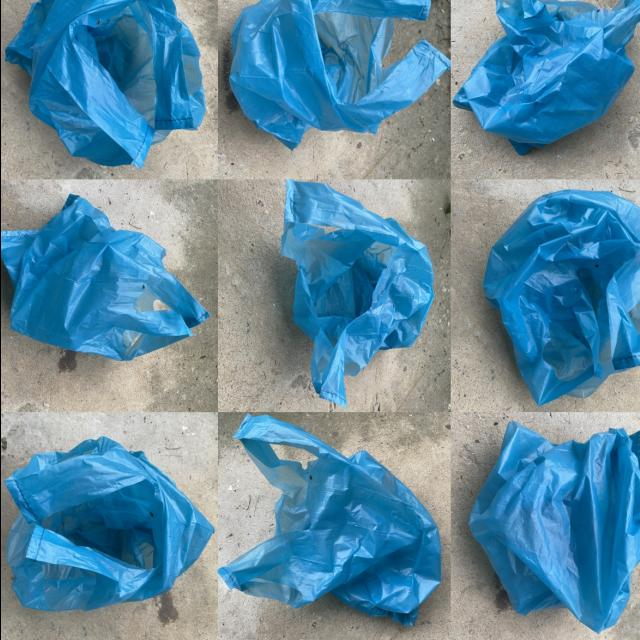plastik: (218, 414, 440, 626), (5, 436, 213, 611), (468, 423, 640, 633), (280, 180, 433, 406), (0, 195, 208, 360), (5, 0, 205, 169), (483, 191, 640, 405), (228, 0, 449, 150), (452, 0, 640, 155)
